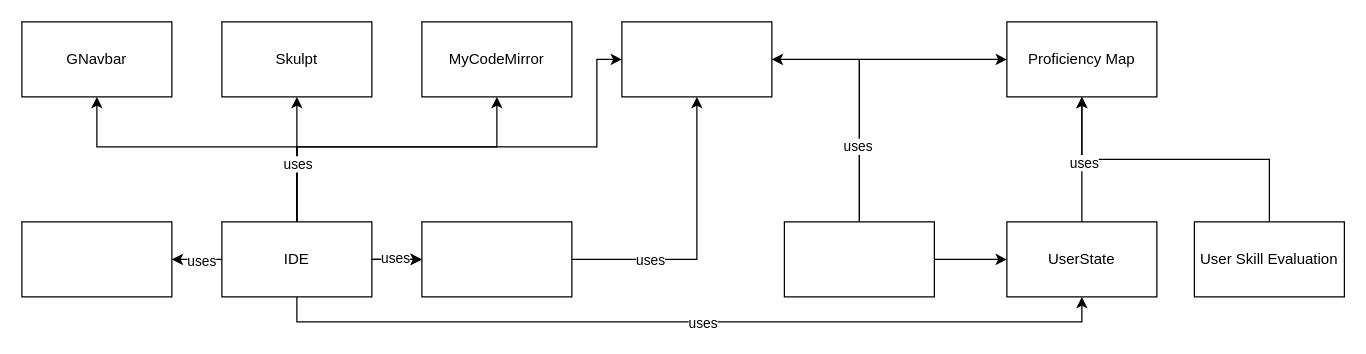
The diagram is 1366 pixels wide and 354 high, and some of its shapes have lost their labels. Each missing label, with the centre of its shape:
Header: the point at 96,259
Problem Recommendation: the point at 858,259
Question Orchestrator: the point at 696,59
TestingSubmit: the point at 496,259
